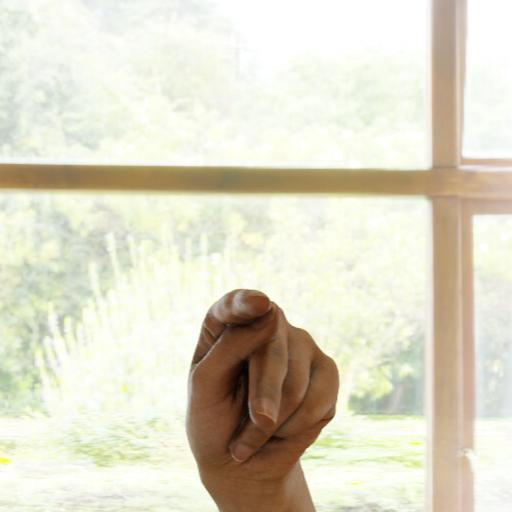P: (155, 279, 366, 506)
